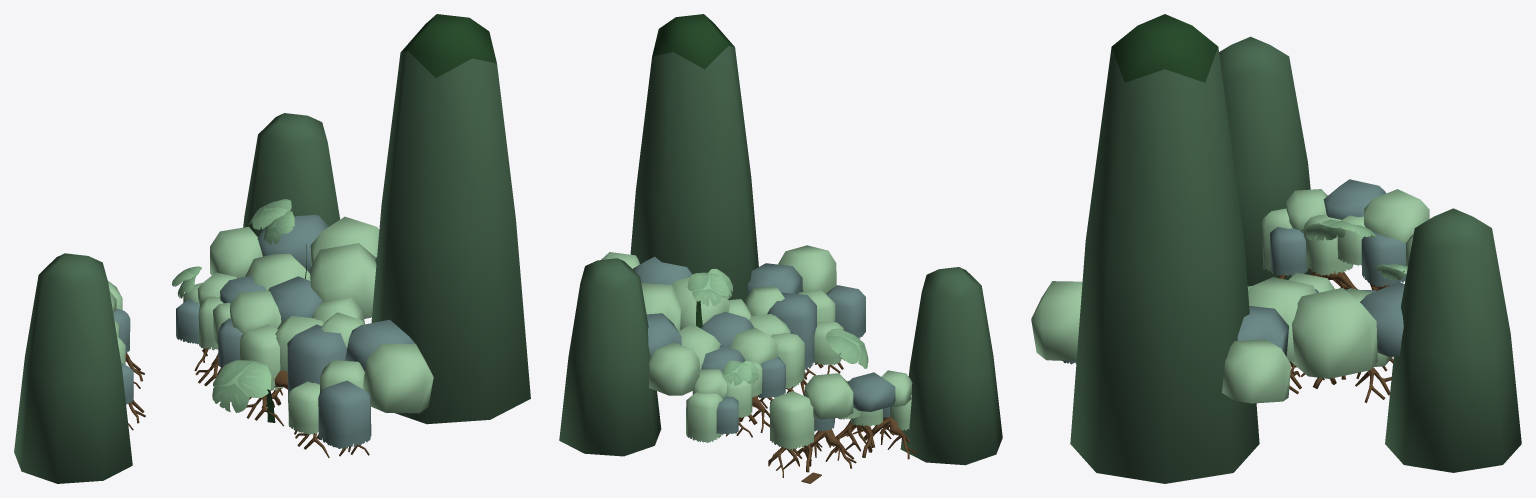
File: test ground.obj
3 views of the same model, side by side, from view 1: azimuth 30°, elevation 25°; view 2: azimuth 150°, elevation 25°; view 3: azimuth 270°, elevation 25° (orthographic). The views are drawn at different scales.
Parts seen in each view (by area): view 1: Cube.150, Cube.002, Cube.141, Cube.151, Cube.147, Cube.153, Cube.148, Cube.152, Cube.142, Cube.144, stalk'.002, Cube.145 (+5 smaller); view 2: Cube.150, Cube.151, Cube.002, Cube.141, Cube.001, Cube.153, Cube.147, Cube.152, Cube.148, Cube.144, Cube.142, stalk' (+8 smaller); view 3: Cube.150, Cube.151, Cube.002, Cube.001, Cube.153, Cube.152, Cube.147, stalk', wood, Cube.141.
Boxes of the visible parts, x1=… form: Cube.150: x1=371, y1=14, x2=530, y2=424; Cube.002: x1=14, y1=253, x2=132, y2=483; Cube.141: x1=176, y1=272, x2=283, y2=390; Cube.151: x1=243, y1=113, x2=339, y2=236; Cube.147: x1=321, y1=312, x2=433, y2=413; Cube.153: x1=210, y1=215, x2=379, y2=278; Cube.148: x1=245, y1=253, x2=364, y2=324; Cube.152: x1=310, y1=243, x2=376, y2=318; Cube.142: x1=318, y1=380, x2=371, y2=448; Cube.144: x1=287, y1=324, x2=347, y2=402; stalk'.002: x1=212, y1=360, x2=275, y2=422; Cube.145: x1=288, y1=381, x2=319, y2=434; Cube.150: x1=630, y1=14, x2=758, y2=303; Cube.151: x1=559, y1=258, x2=661, y2=456; Cube.002: x1=900, y1=267, x2=1002, y2=465; Cube.141: x1=686, y1=328, x2=804, y2=442; Cube.001: x1=769, y1=370, x2=912, y2=449; Cube.153: x1=641, y1=283, x2=699, y2=395; Cube.147: x1=745, y1=245, x2=836, y2=315; Cube.152: x1=601, y1=252, x2=729, y2=329; Cube.148: x1=678, y1=299, x2=754, y2=369; Cube.144: x1=767, y1=292, x2=816, y2=369; Cube.142: x1=827, y1=285, x2=865, y2=339; stalk': x1=687, y1=268, x2=732, y2=328; Cube.150: x1=1070, y1=14, x2=1259, y2=483; Cube.151: x1=1385, y1=208, x2=1521, y2=472; Cube.002: x1=1219, y1=36, x2=1311, y2=286; Cube.001: x1=1261, y1=179, x2=1429, y2=286; Cube.153: x1=1291, y1=282, x2=1404, y2=378; Cube.152: x1=1222, y1=277, x2=1316, y2=403; Cube.147: x1=1031, y1=281, x2=1082, y2=360; stalk': x1=1301, y1=219, x2=1377, y2=241; wood: x1=1289, y1=358, x2=1393, y2=402; Cube.141: x1=1247, y1=272, x2=1375, y2=292.
Size of what is drawn, in the model's own units: 254 by 199 by 204.
